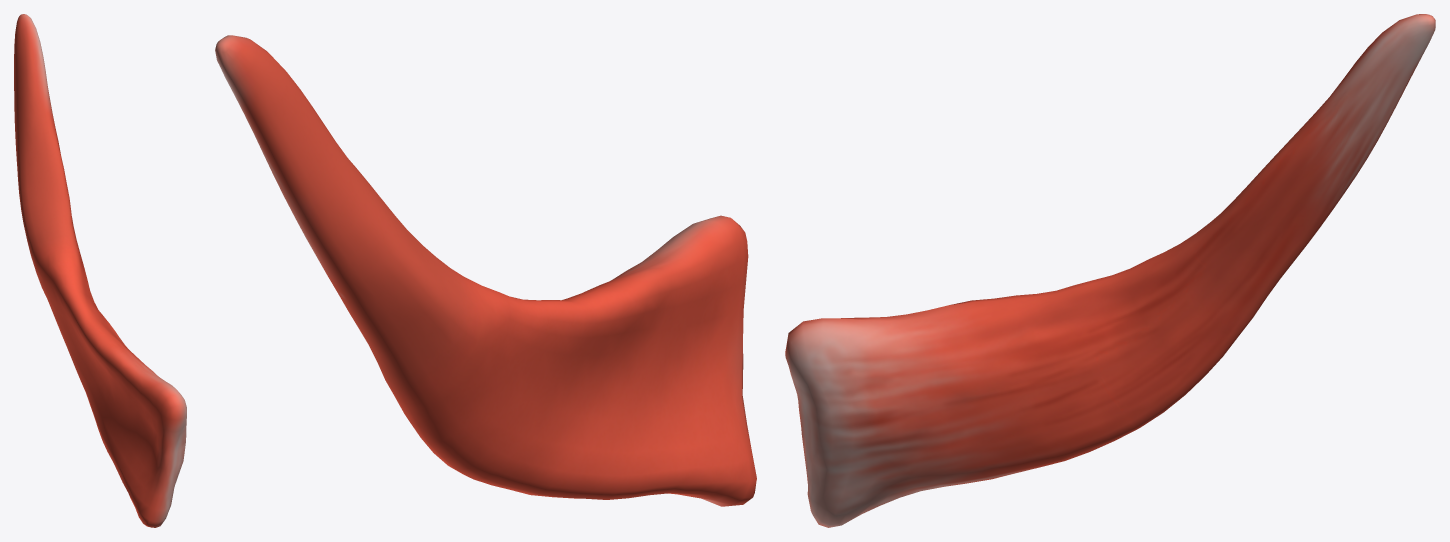
The model's file is Buccinator.glb.
3 renders of one model, left to right at view 1: azimuth 30°, elevation 25°; view 2: azimuth 150°, elevation 25°; view 3: azimuth 270°, elevation 25°, orthographic. The views are drawn at different scales.
Parts seen in each view (by area): view 1: Buccinator.glb; view 2: Buccinator.glb; view 3: Buccinator.glb.
Part boxes in pixels (x1=…): Buccinator.glb: x1=14, y1=14, x2=186, y2=527; Buccinator.glb: x1=215, y1=35, x2=756, y2=506; Buccinator.glb: x1=785, y1=14, x2=1435, y2=527.
Size of the model in its own units: 0.0509 by 0.2204 by 0.2329.
1 material, 1 textured.
